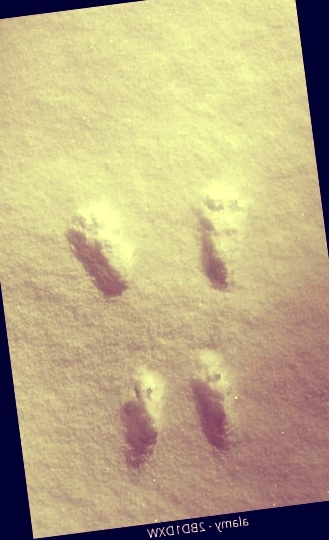ecureuil: (58, 188, 150, 311), (181, 171, 260, 304), (178, 336, 252, 462), (112, 355, 181, 467)
